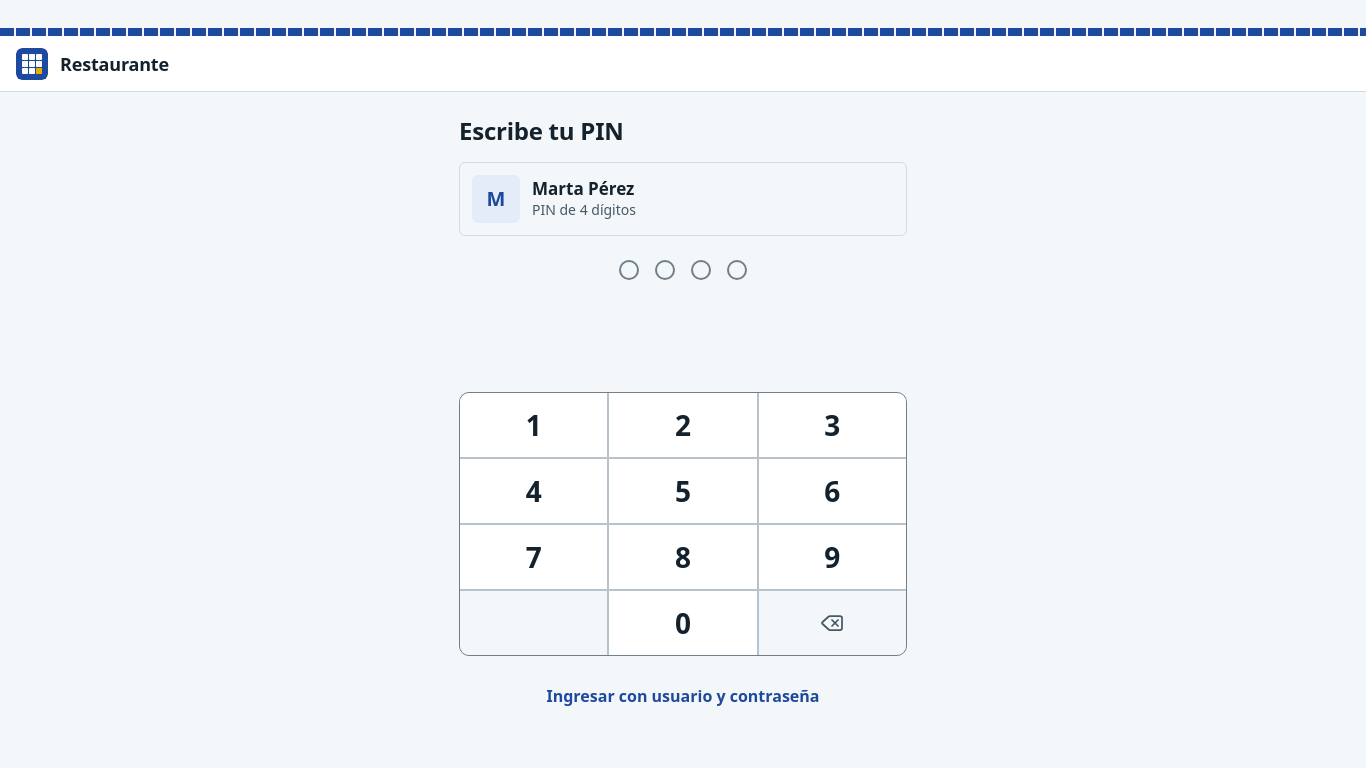
Test case: teclado y envío (criterio 94) › envía al completar el largo, guarda la sesión con su equipo y entra
(page scrolled)
Check: the heading "Escribe tu PIN" is shown, box [459,114,624,147]
Click the button "1". click: (534, 425)
box: [460,393,607,457]
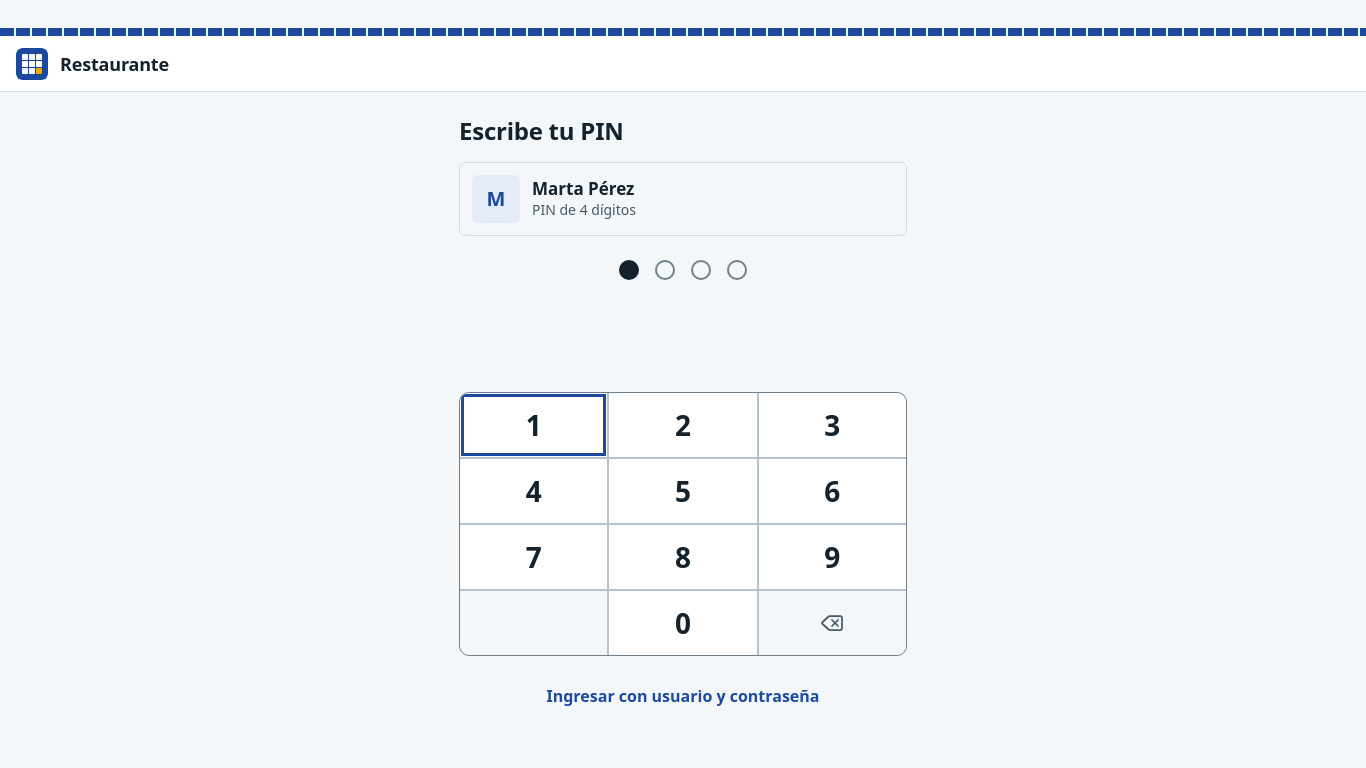
Click the button "2". click: (683, 425)
box: [609,393,757,457]
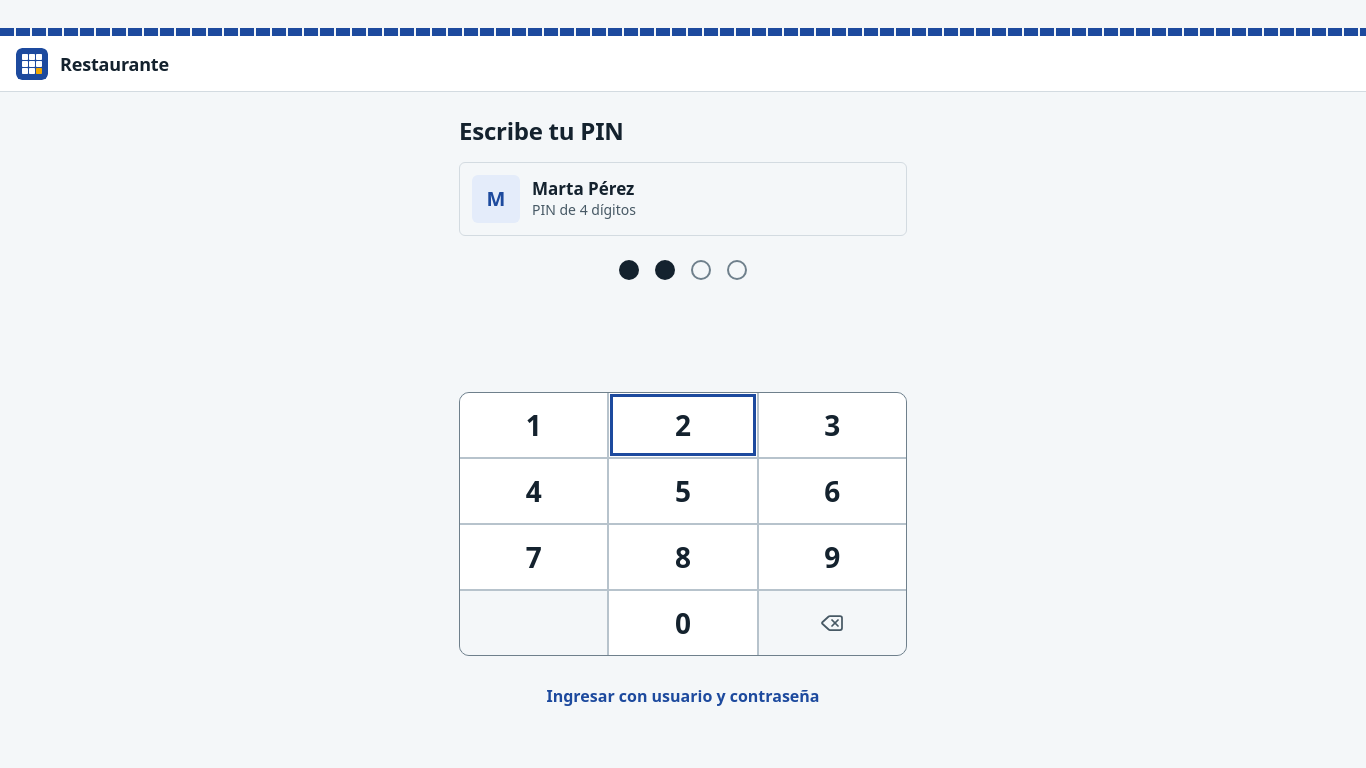
Click the button "3". click: (832, 425)
box: [759,393,906,457]
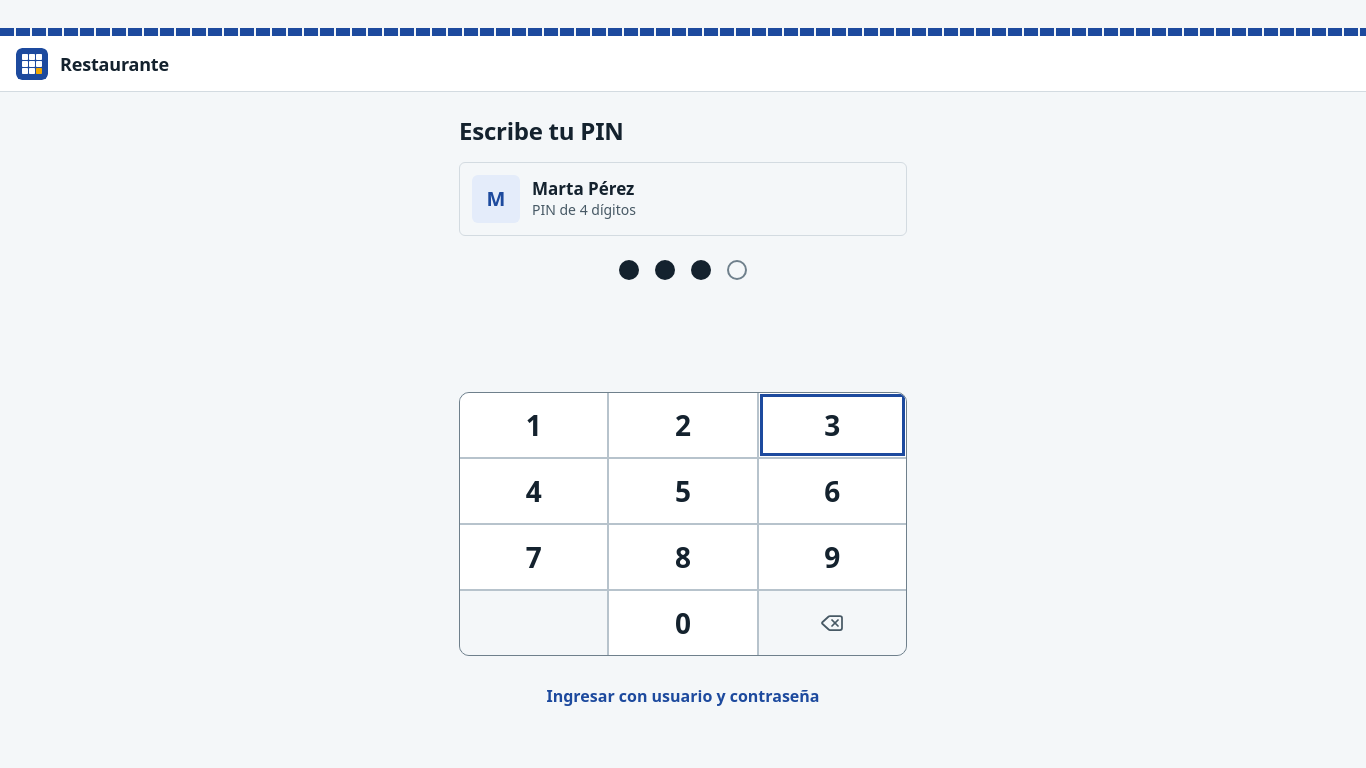
Click the button "4". click: (534, 491)
box: [460,459,607,523]
(page scrolled)
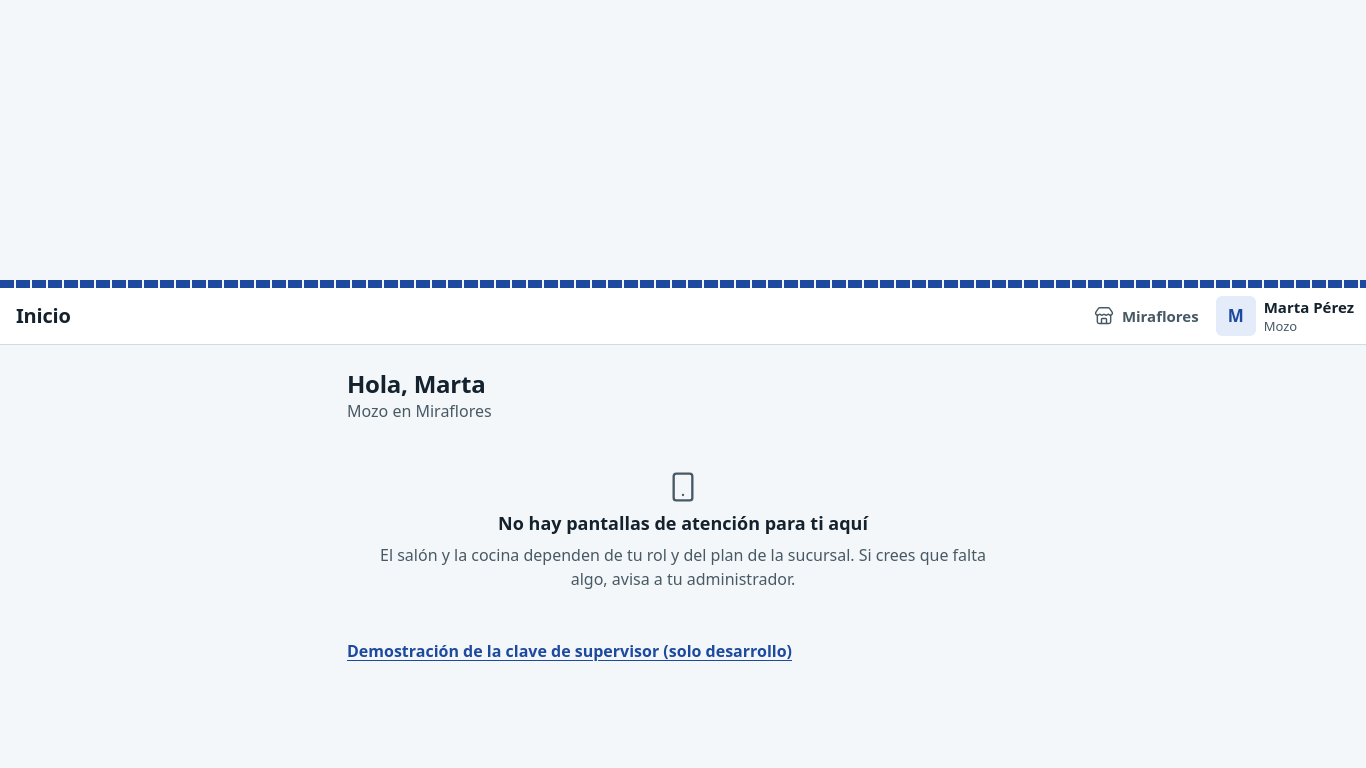
Check: the heading "Hola, Marta" is shown, box [347,367,485,400]
